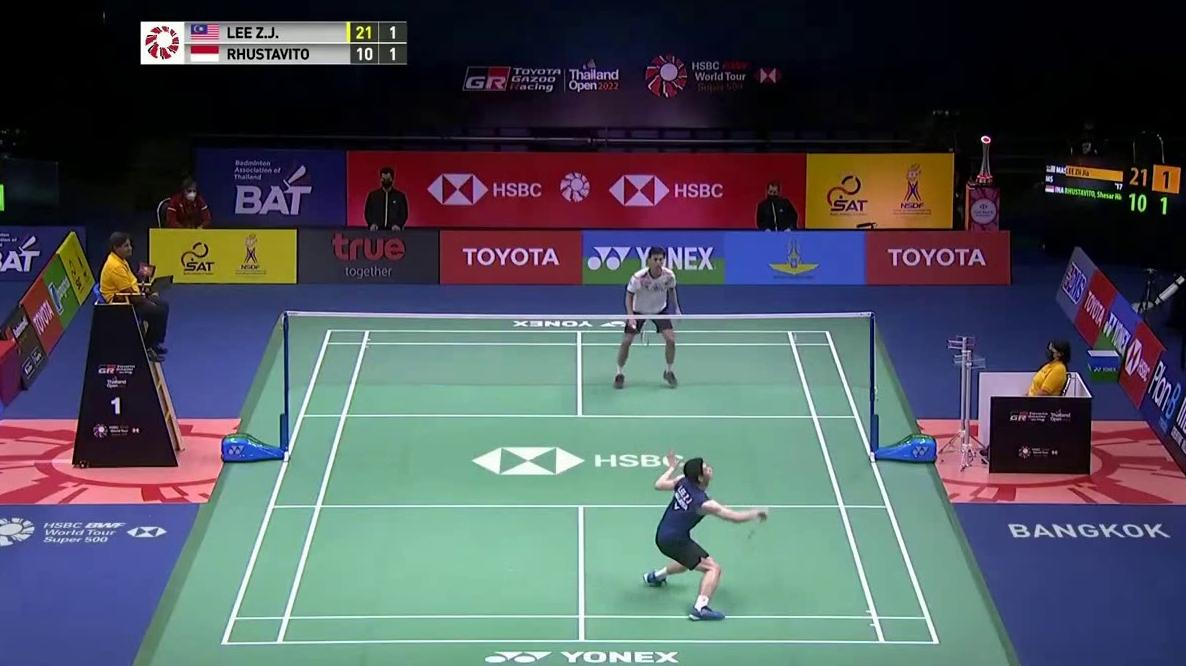racket: (630, 320, 650, 347)
shuttle: (788, 330, 798, 343)
